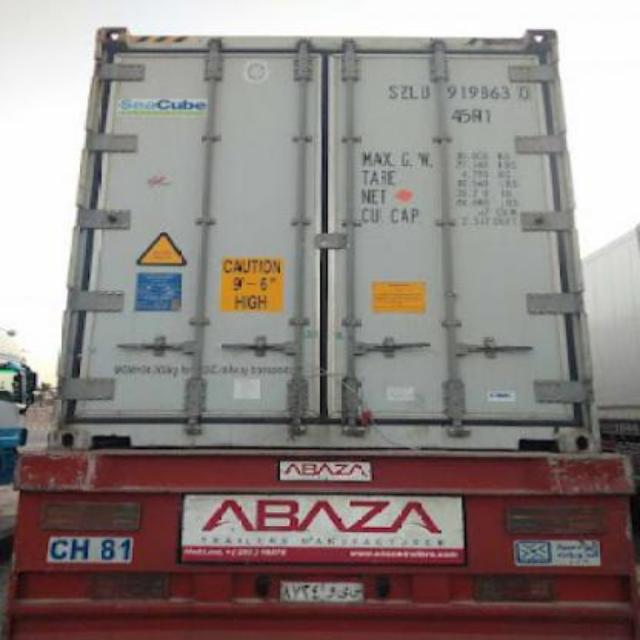0: (516, 76, 532, 105)
1: (458, 78, 468, 102)
3: (496, 74, 512, 108)
6: (490, 74, 498, 106)
8: (478, 78, 488, 102)
9: (442, 75, 458, 101), (468, 76, 478, 100)
L: (408, 78, 418, 105)
S: (386, 78, 398, 104)
U: (416, 80, 432, 102)
Z: (396, 79, 409, 99)
